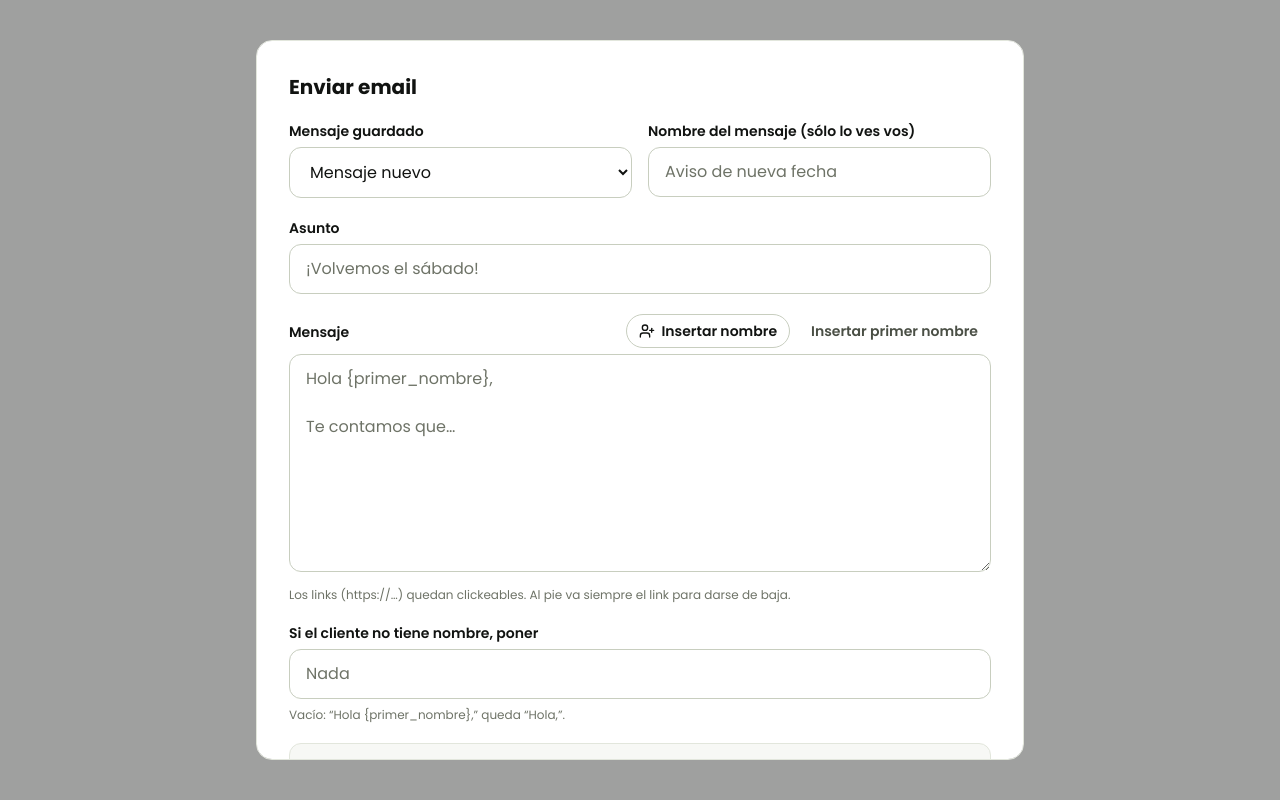
Test: DialogoEnvio › muestra el error del servidor al mandar
Select "Nueva fecha" in the dropdown labelled "Mensaje guardado" at (460, 172), box x1=289 y1=147 x2=632 y2=198
(page scrolled)
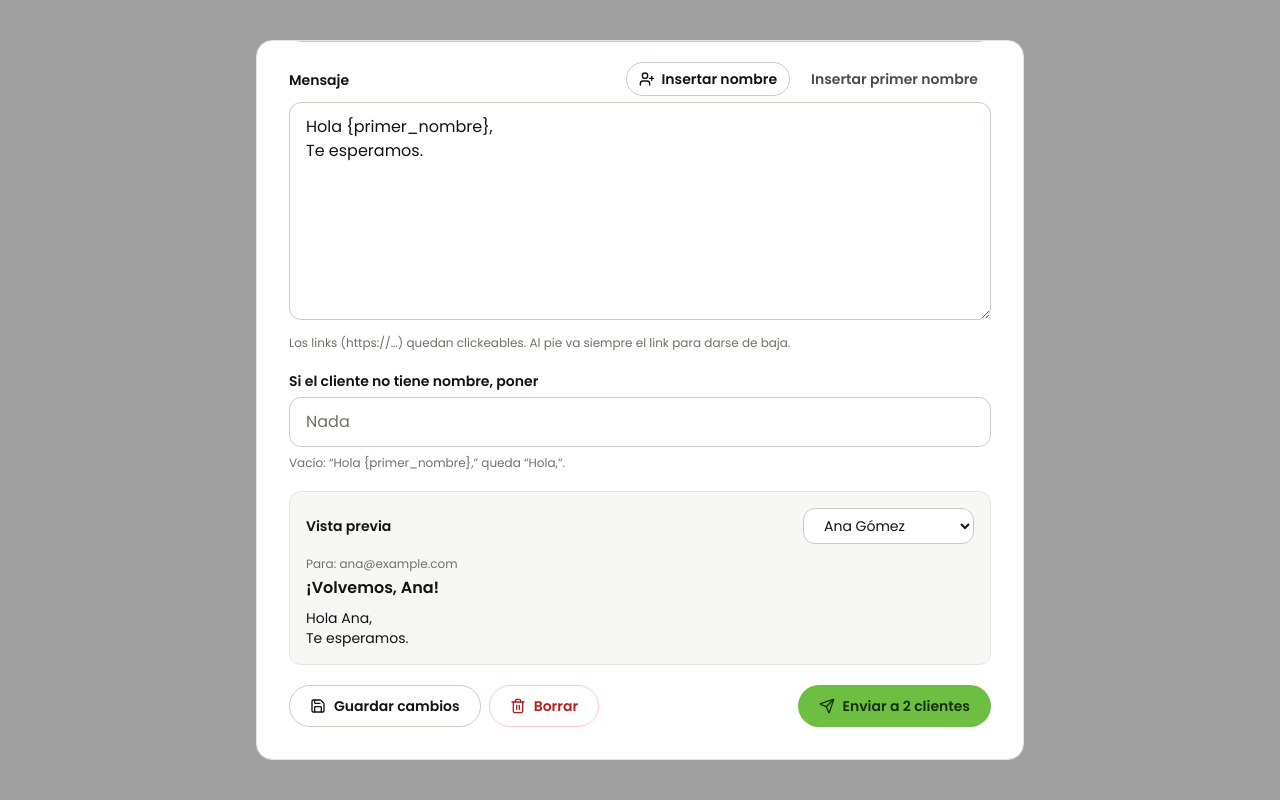
Click the button "Enviar a 2 clientes" at (894, 706), box x1=798 y1=685 x2=991 y2=727
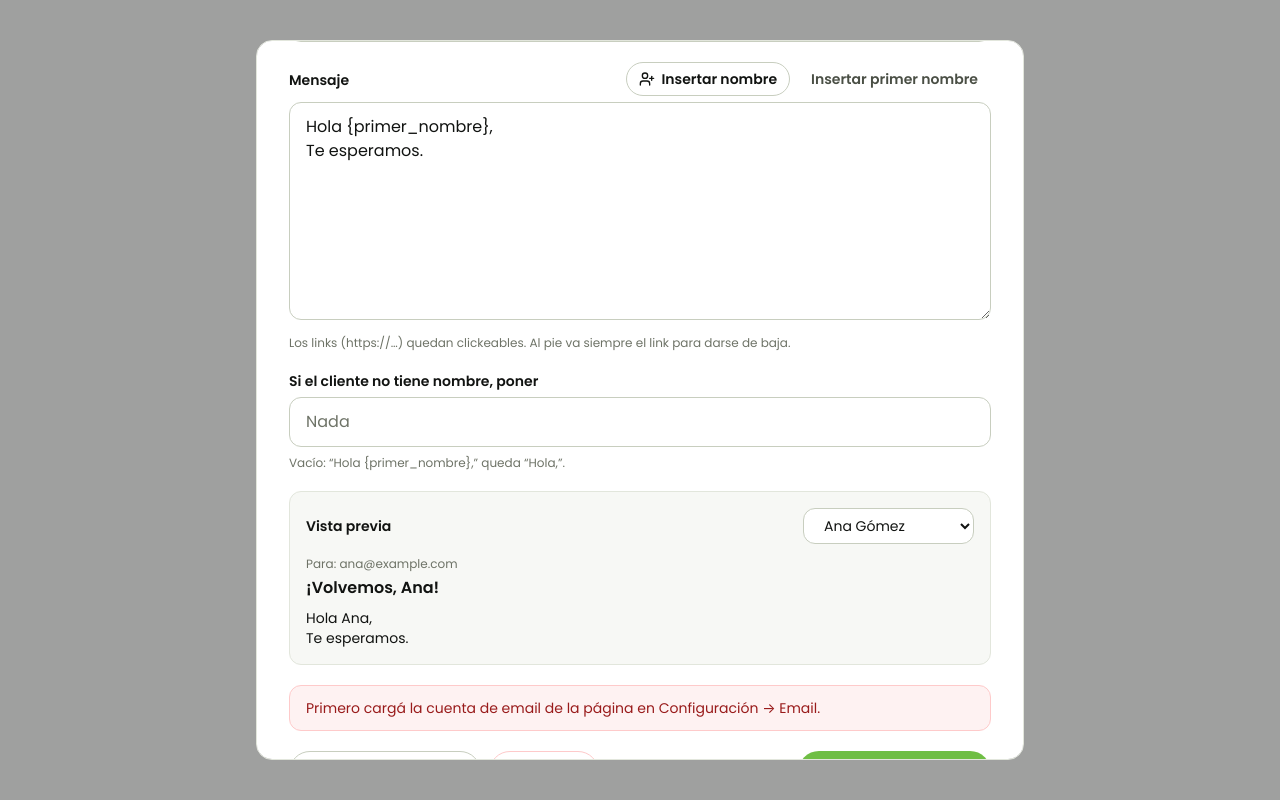
Result: the text "Primero cargá la cuenta" is shown at x1=306 y1=698 x2=820 y2=718
